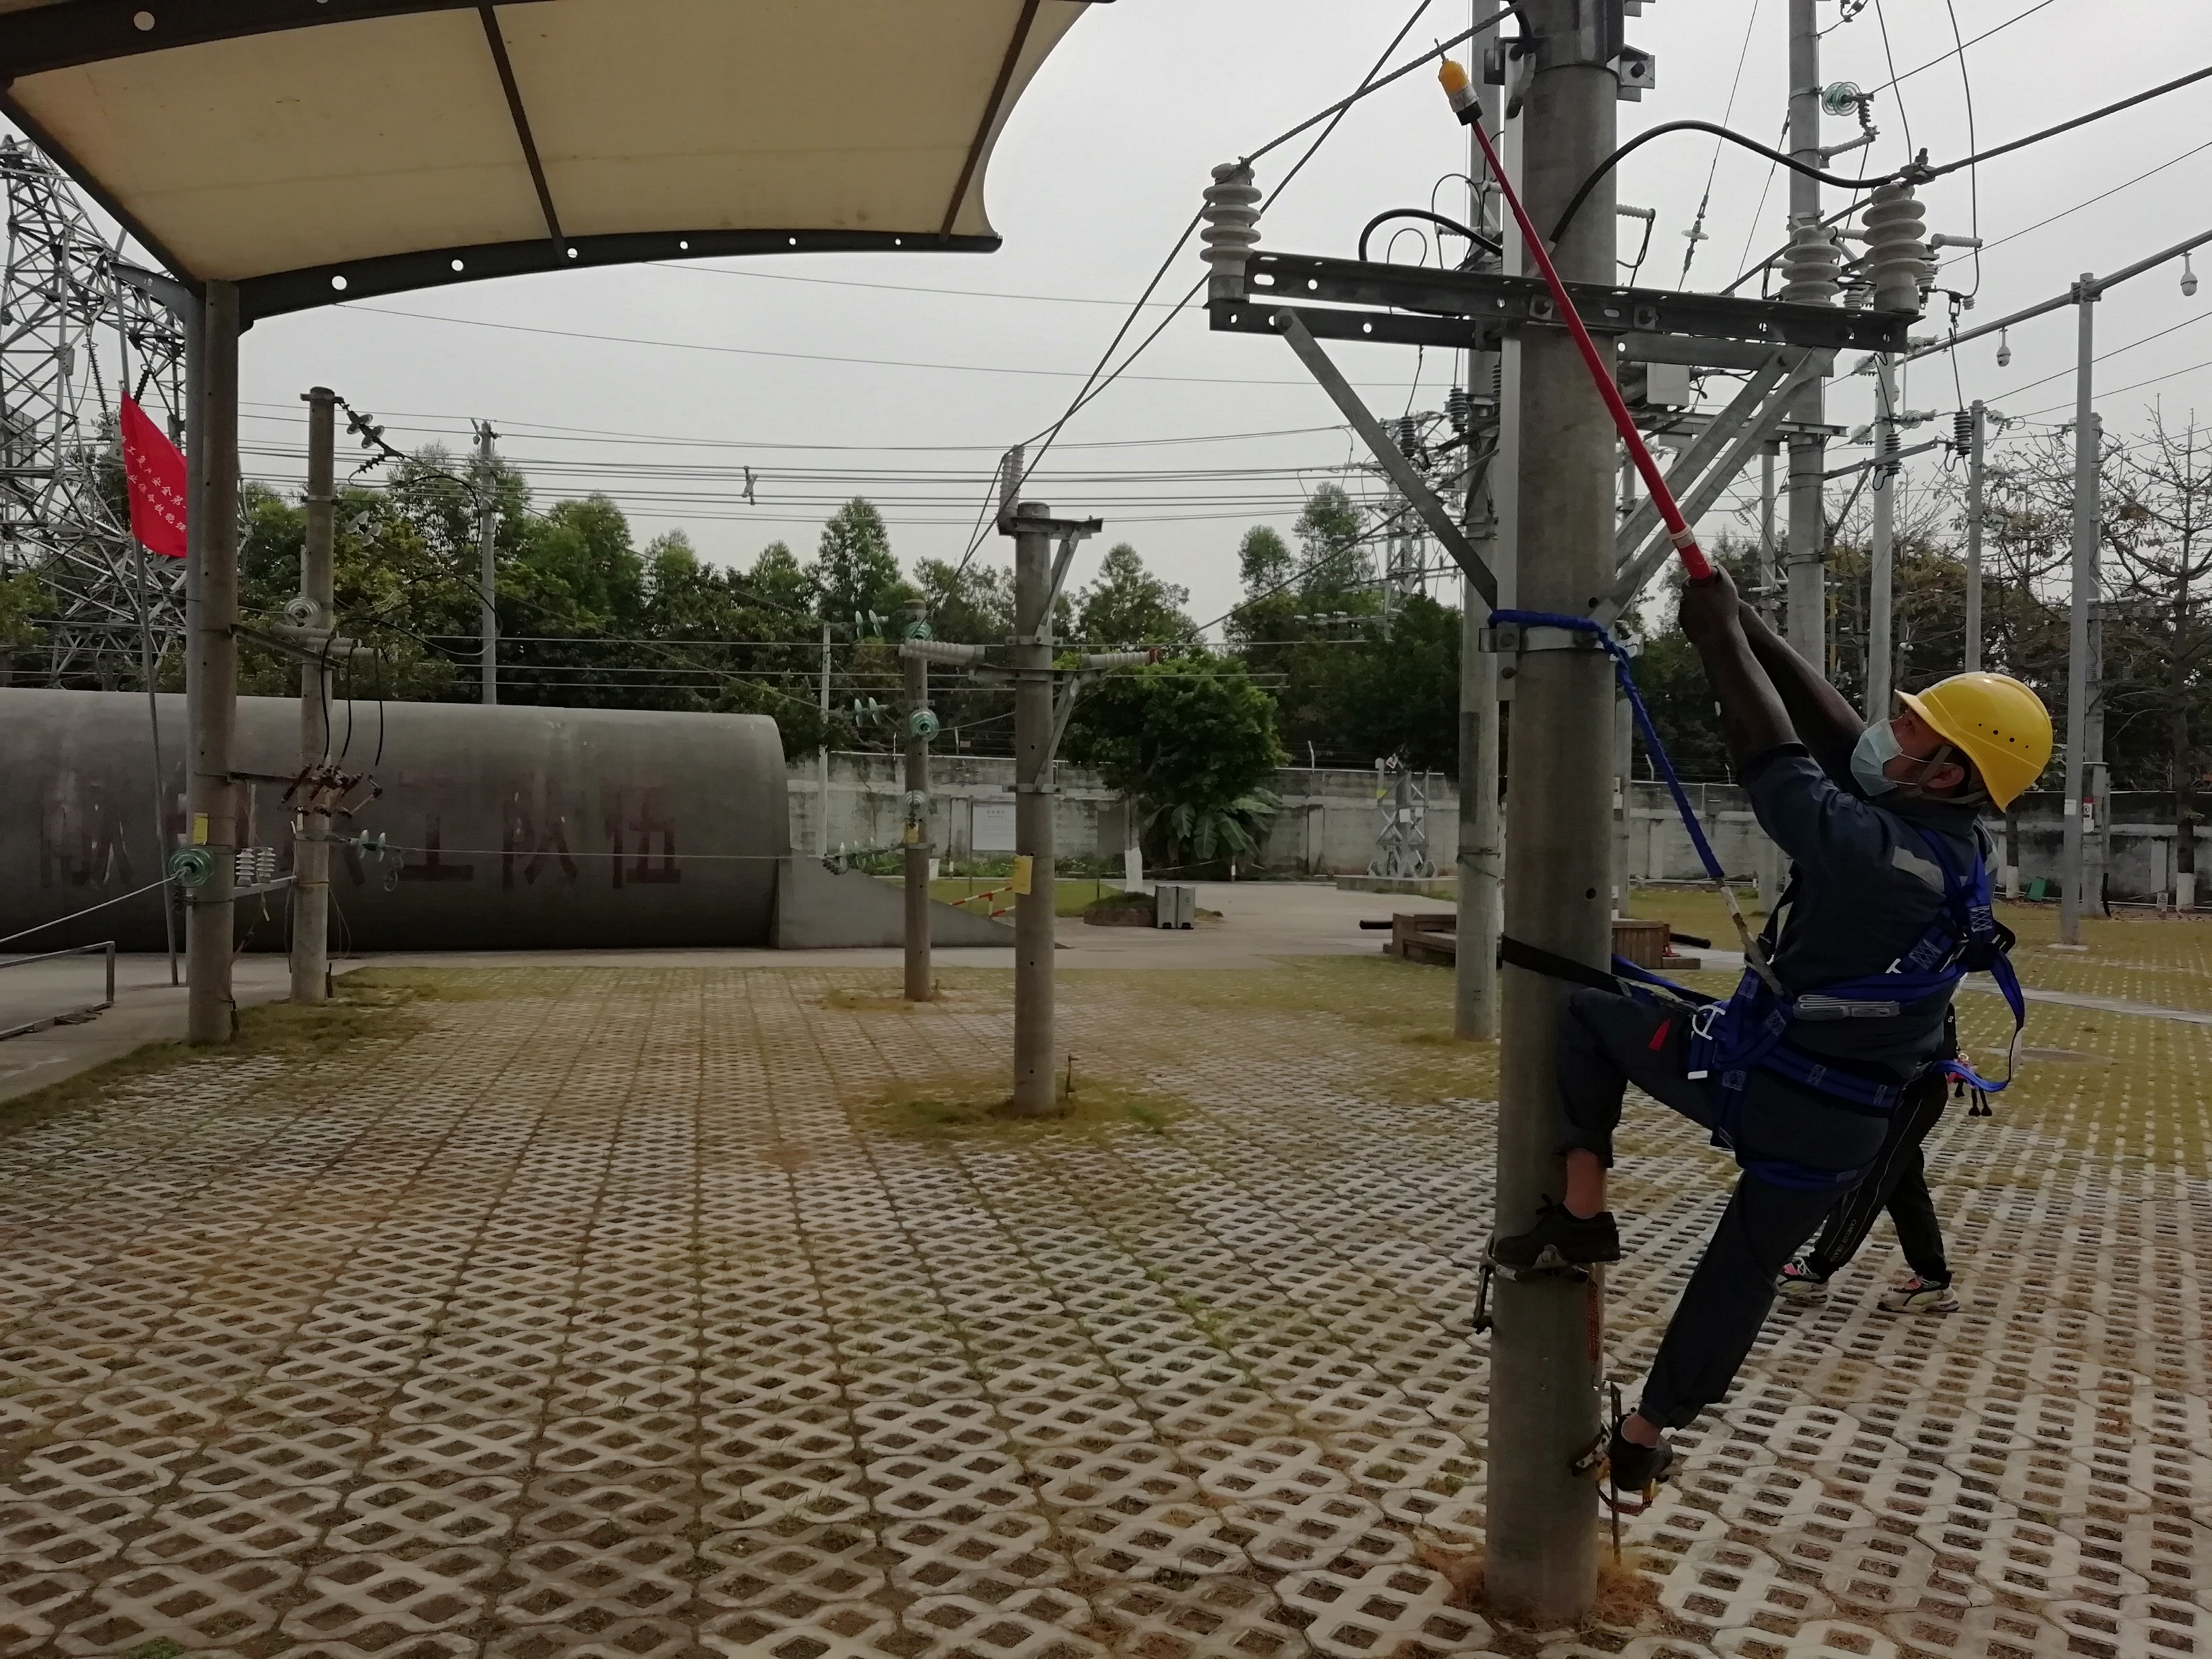downsuit: (1548, 1000, 1879, 1422)
upsuit: (1756, 774, 1998, 1058)
